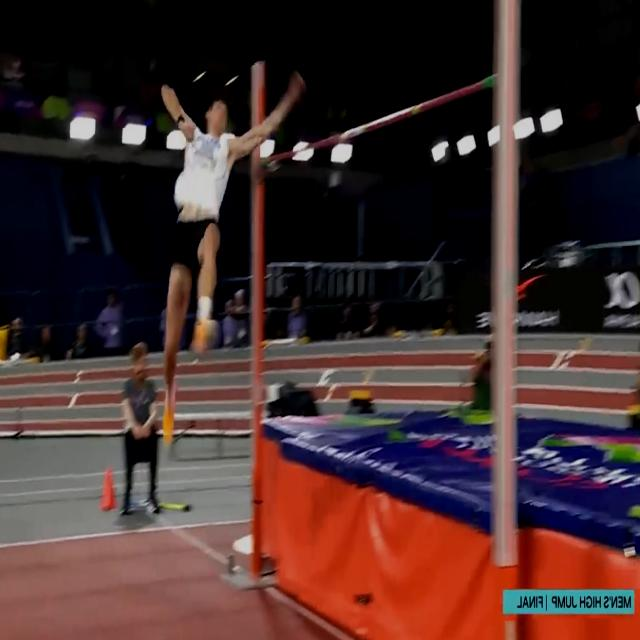jump: (160, 83, 302, 442)
